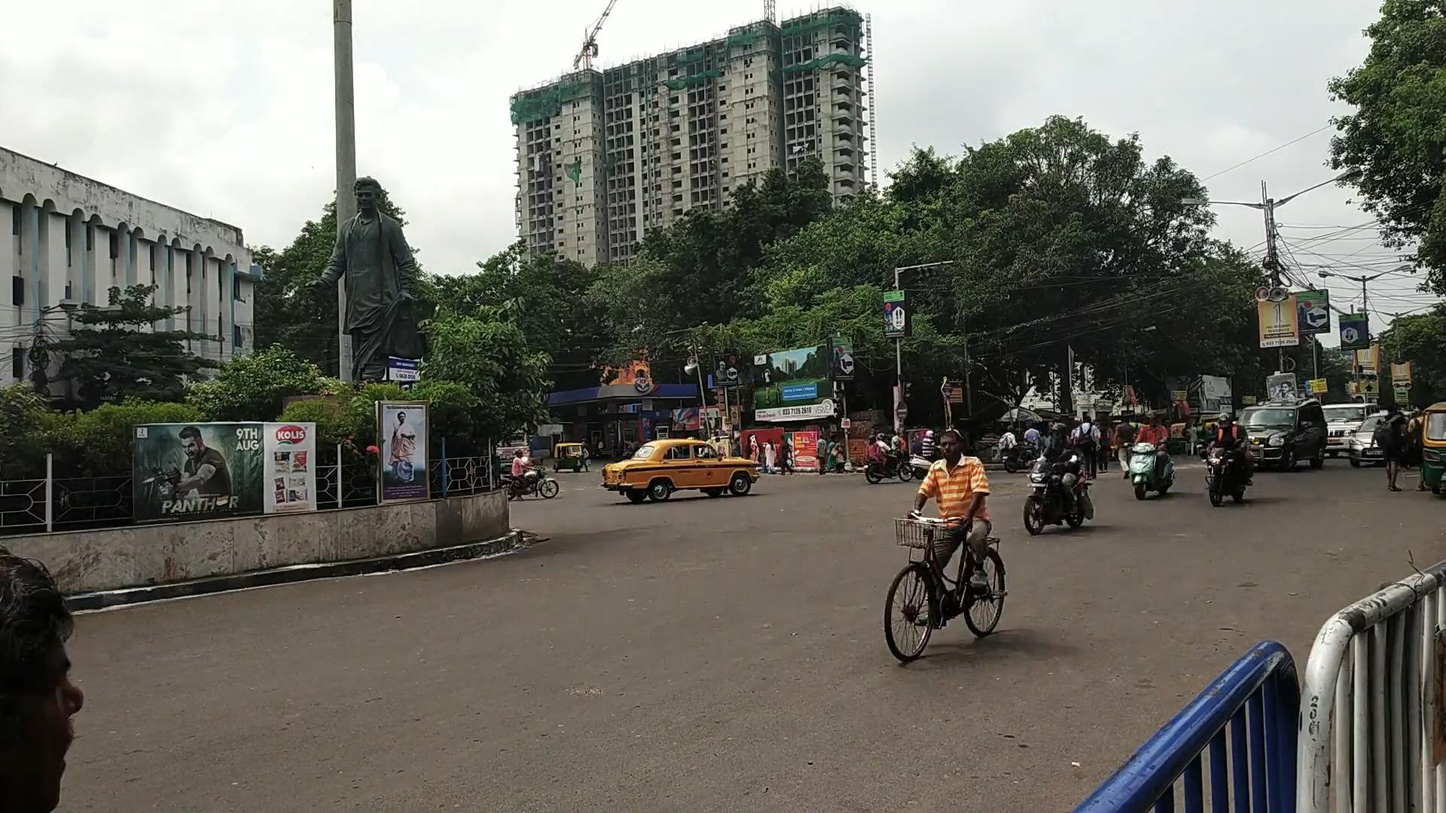bicyclist: (884, 430, 1007, 663)
driver: (1024, 423, 1094, 535), (1198, 412, 1254, 507), (1127, 410, 1177, 500), (499, 449, 559, 502), (864, 433, 913, 484)
no-helmet: (939, 430, 962, 462)
